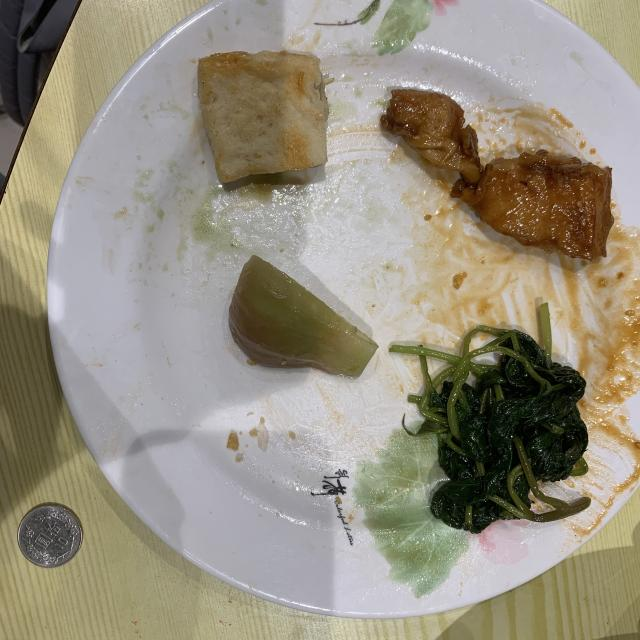coin: (18, 502, 82, 568)
creamy tofu: (380, 89, 614, 260)
creamy tofu -without sauce-: (198, 51, 328, 182)
sweet potato leaves: (390, 304, 590, 534)
